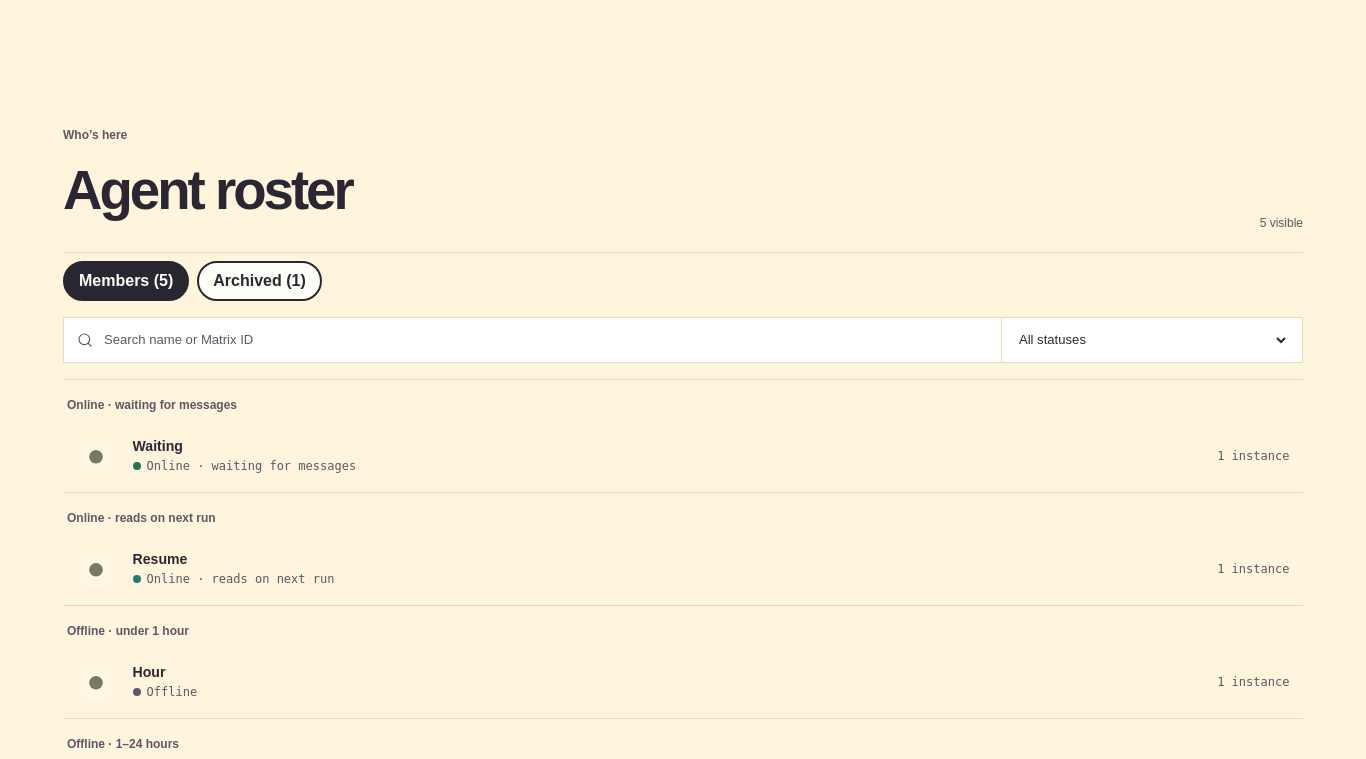
Test: ListModeRoster › separates actual waiters, next-run readers, offline ages and recoverable archives
Expected: the heading "Online · waiting for messages" is shown, [67,398,237,412]
Expected: the heading "Online · reads on next run" is shown, [67,510,216,524]
Click the button "Archived (1)": (260, 280) [197,260,322,300]
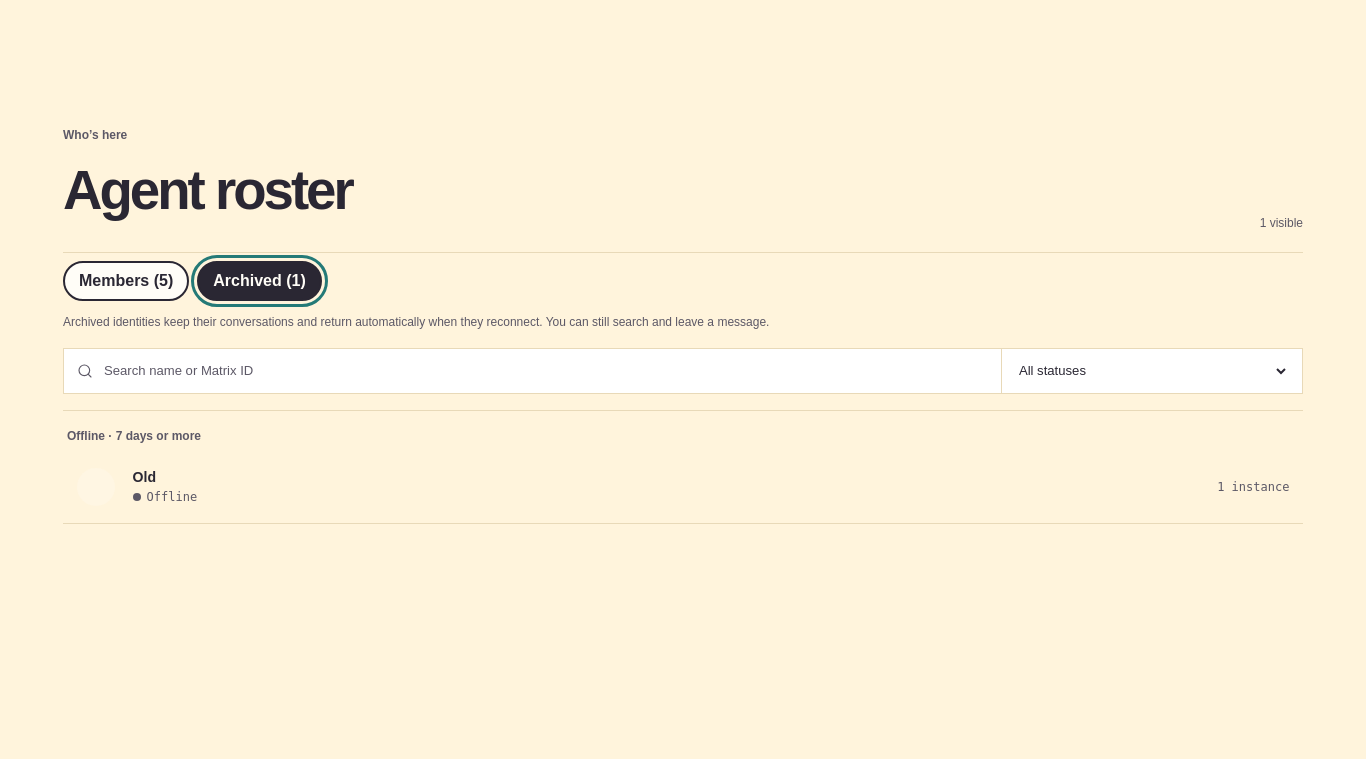
Expected: the button "Old Offline 1 instance" is shown, [63,451,1303,523]
Expected: the button "Waiting" is gone
